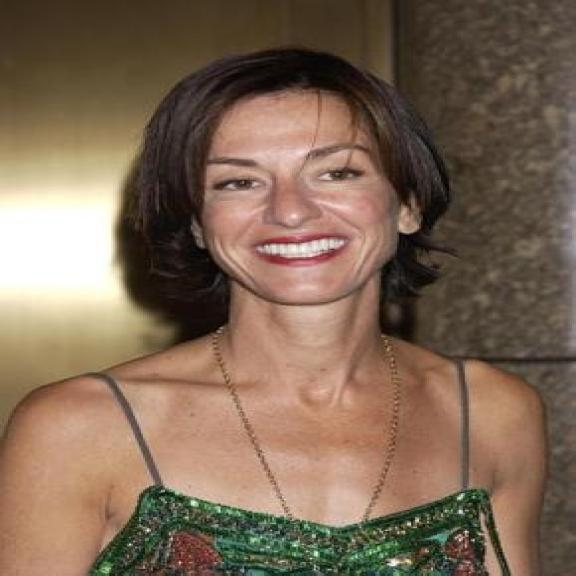face: (183, 82, 429, 308)
